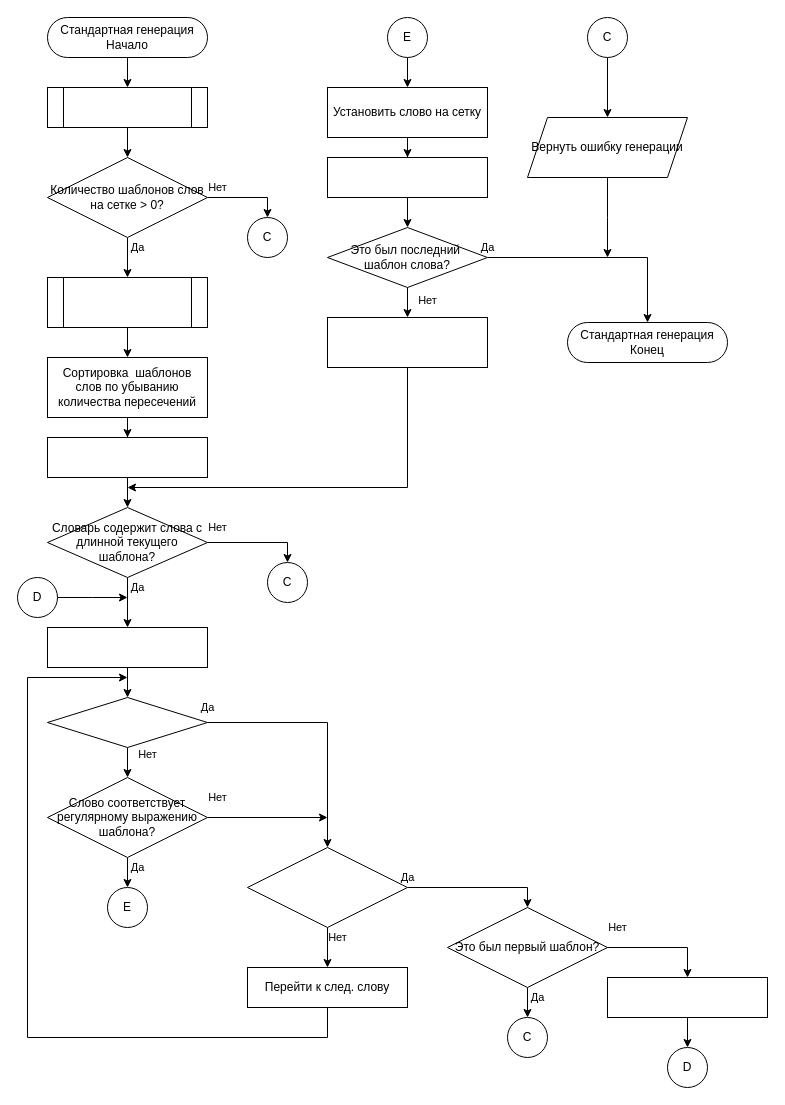
Some shapes in this 785 by 1105 pixel diagram are drawn without their labels. Here are the shapes that lost their labels. From the top down, the box of each, then its label:
(46, 86, 208, 128): Поиск шаблонов слов на сетке
(326, 156, 488, 198): Увеличить кол-во установленных слов
(46, 276, 208, 328): Определение пересечений
(326, 316, 488, 368): Перейти к след. шаблону слова
(46, 436, 208, 478): Получить первый шаблон из списка
(46, 626, 208, 668): Получить слово текущей длины из словаря
(46, 696, 208, 748): Слово уже использовалось?
(246, 846, 408, 928): Это последнее слово?
(606, 976, 768, 1018): Перейти к пред. шаблону
